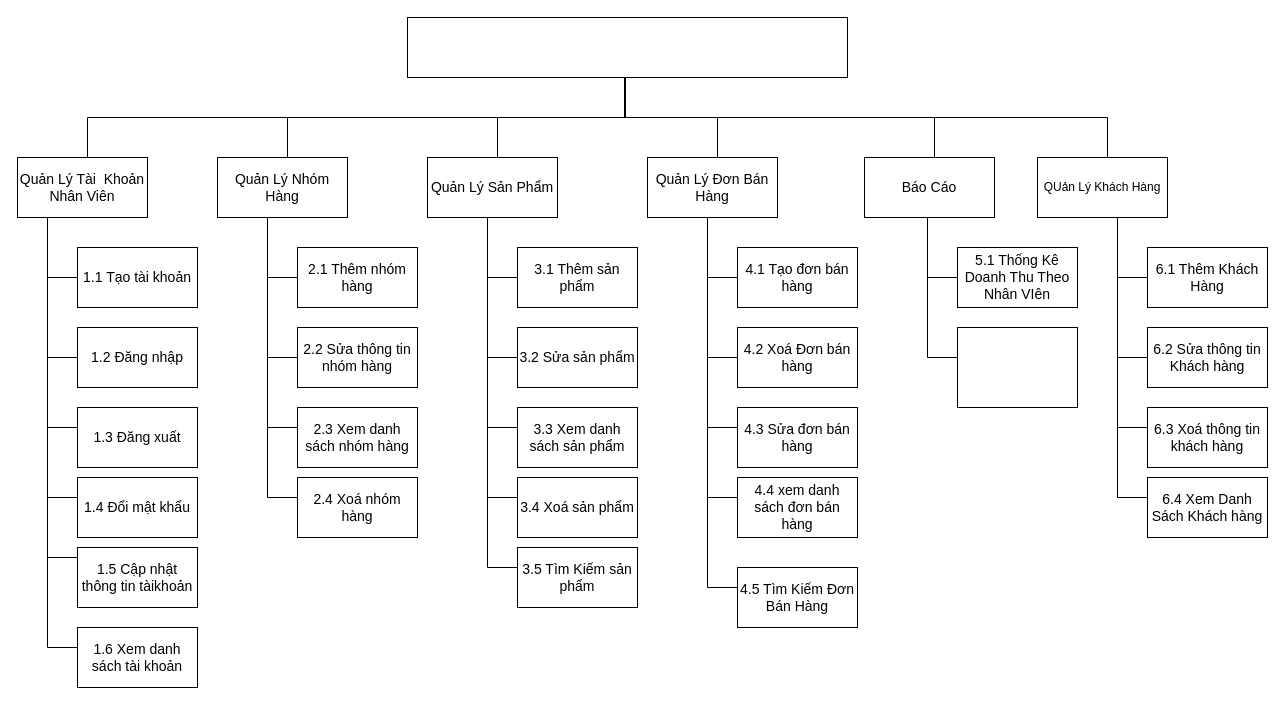
Some shapes in this 1285 by 705 pixel diagram are drawn without their labels. The centre of each missing label's shape, as x and y in pixels:
"5.1 Thống Kê Doanh Thu Theo Nhân Viên và Thời Gian" goes at (x=1017, y=367).
"Hệ Thống Theo Dõi Bán Hàng Tại Cửa Hàng Tạp Hoá BEE MART" goes at (x=627, y=47).
